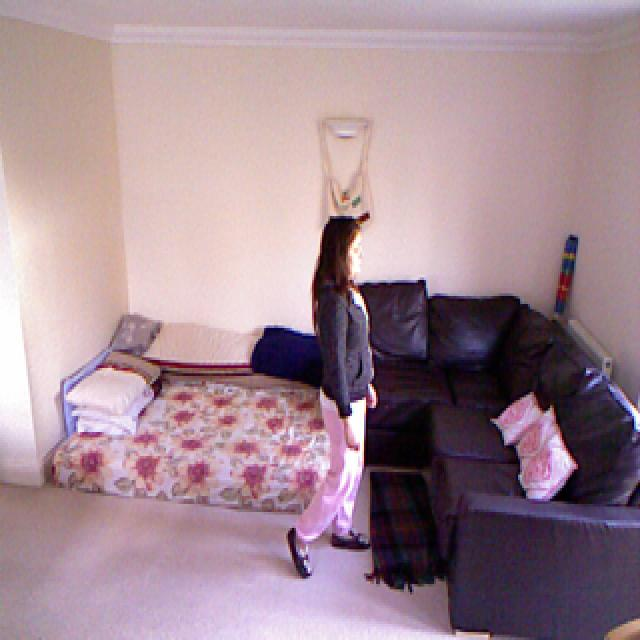standing: (291, 200, 388, 594)
